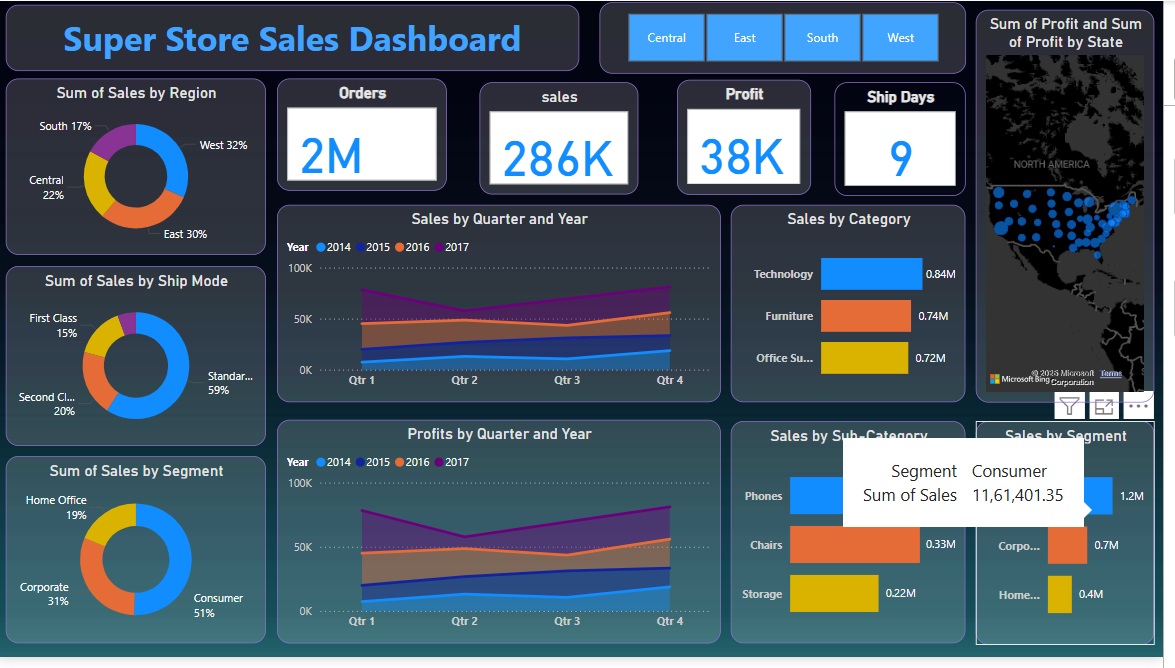

What the dashboard file says about the page in this screenshot:
{"tool":"powerbi","page":{"name":"Page 1","canvas":[1280,720],"ordinal":0},"visuals":[{"type":"clusteredBarChart","title":"Sales by Category","fields":{"Y":["Sum(Sample - Superstore.Sales)"],"Category":["Sample - Superstore.Category"]},"box":[805.5,223.7,258,216.8],"z":0},{"type":"clusteredBarChart","title":"Sales by Sub-Category","fields":{"Y":["Sum(Sample - Superstore.Sales)"],"Category":["Sample - Superstore.Sub-Category"]},"box":[805.5,461.1,258,244.3],"z":1000},{"type":"clusteredBarChart","title":"Sales by Segment","fields":{"Y":["Sum(Sample - Superstore.Sales)"],"Category":["Sample - Superstore.Segment"]},"box":[1074.4,461.1,196.2,245.6],"z":2000},{"type":"stackedAreaChart","title":"Sales by Quarter and Year","fields":{"Series":["Sample - Superstore.Order Date.Variation.Date Hierarchy.Year"],"Category":["Sample - Superstore.Order Date.Variation.Date Hierarchy.Quarter"],"Y":["Sum(Sample - Superstore.Profit)"]},"box":[307.4,223.7,487.1,216.8],"z":3000},{"type":"stackedAreaChart","title":"Profits by Quarter and Year","fields":{"Series":["Sample - Superstore.Order Date.Variation.Date Hierarchy.Year"],"Category":["Sample - Superstore.Order Date.Variation.Date Hierarchy.Quarter"],"Y":["Sum(Sample - Superstore.Profit)"]},"box":[307.4,459.7,487.1,245.6],"z":4000},{"type":"donutChart","fields":{"Category":["Sample - Superstore.Segment"],"Y":["Sum(Sample - Superstore.Sales)"]},"box":[9.6,499.5,285.4,205.8],"z":5000},{"type":"donutChart","fields":{"Y":["Sum(Sample - Superstore.Sales)"],"Category":["Sample - Superstore.Region"]},"box":[9.6,85.1,285.4,193.5],"z":6000},{"type":"donutChart","fields":{"Y":["Sum(Sample - Superstore.Sales)"],"Category":["Sample - Superstore.Ship Mode"]},"box":[9.6,290.9,285.4,197.6],"z":7000},{"type":"map","fields":{"Category":["Sample - Superstore.State"],"Size":["Sum(Sample - Superstore.Profit)"]},"box":[1074.4,9.6,196.2,430.9],"z":8000},{"type":"slicer","fields":{"Values":["Sample - Superstore.Region"]},"box":[661.4,1.4,402.1,78.2],"z":9000},{"type":"textbox","box":[9.6,4.1,629.8,72.7],"z":10000},{"type":"cardVisual","title":"Orders","fields":{"Data":["Sum(Sample - Superstore.Sales)"]},"box":[307.4,85.1,186.6,123.5],"z":11000},{"type":"cardVisual","title":"sales","fields":{"Data":["Sum(Sample - Superstore.Profit)"]},"box":[529.7,89.2,174.3,123.5],"z":12000},{"type":"cardVisual","title":"Profit","fields":{"Data":["Sum(Sample - Superstore.Quantity)"]},"box":[746.5,86.4,146.8,126.2],"z":13000},{"type":"cardVisual","title":"Ship Days","fields":{"Data":["Avg(Sample - Superstore.AvgDelivery)"]},"box":[919.4,89.2,144.1,124.9],"z":14000}]}

Visuals, with their boxes in screenshot pixels (x1, y1, x2, y2), scaled from the page's 1280x720 canvas onto the 1175x668 screenshot:
"Sales by Category" clusteredBarChart: (left=739, top=208, right=976, bottom=409)
"Sales by Sub-Category" clusteredBarChart: (left=739, top=428, right=976, bottom=654)
"Sales by Segment" clusteredBarChart: (left=986, top=428, right=1166, bottom=656)
"Sales by Quarter and Year" stackedAreaChart: (left=282, top=208, right=729, bottom=409)
"Profits by Quarter and Year" stackedAreaChart: (left=282, top=426, right=729, bottom=654)
donutChart - Sample - Superstore.Segment x Sum(Sample - Superstore.Sales): (left=9, top=463, right=271, bottom=654)
donutChart - Sum(Sample - Superstore.Sales) x Sample - Superstore.Region: (left=9, top=79, right=271, bottom=258)
donutChart - Sum(Sample - Superstore.Sales) x Sample - Superstore.Ship Mode: (left=9, top=270, right=271, bottom=453)
map - Sample - Superstore.State x Sum(Sample - Superstore.Profit): (left=986, top=9, right=1166, bottom=409)
slicer - Sample - Superstore.Region: (left=607, top=1, right=976, bottom=74)
textbox: (left=9, top=4, right=587, bottom=71)
"Orders" cardVisual: (left=282, top=79, right=453, bottom=194)
"sales" cardVisual: (left=486, top=83, right=646, bottom=197)
"Profit" cardVisual: (left=685, top=80, right=820, bottom=197)
"Ship Days" cardVisual: (left=844, top=83, right=976, bottom=199)
